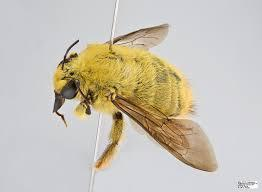Xylocopa: (46, 17, 222, 176)
